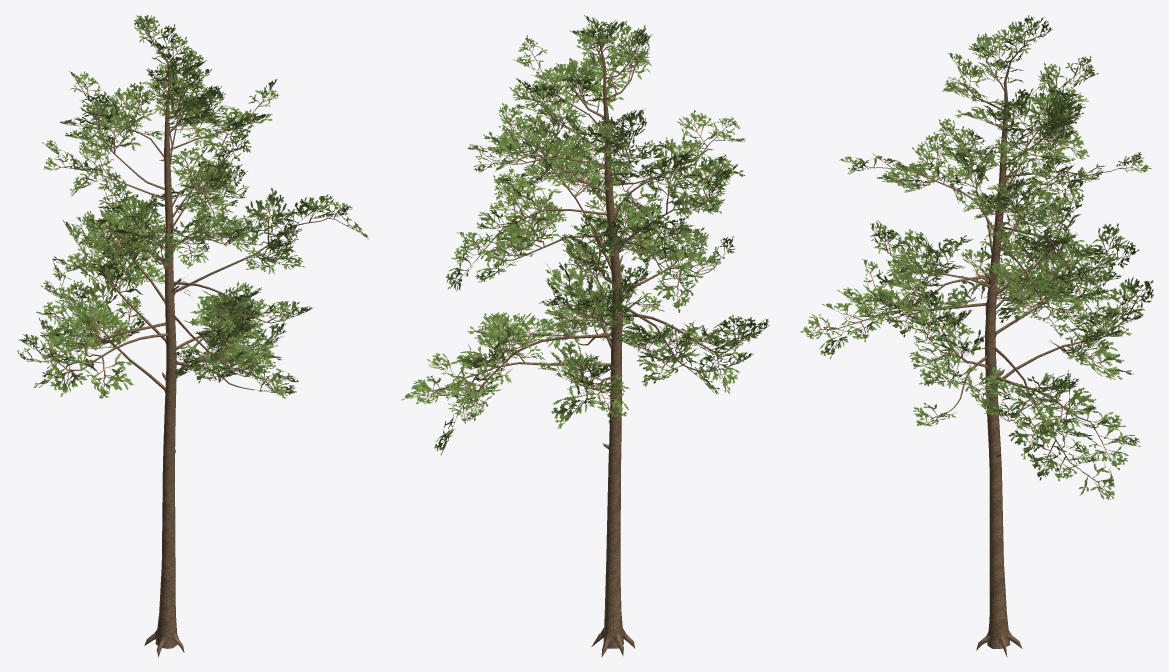
3 views of the same model, side by side, from view 1: azimuth 30°, elevation 25°; view 2: azimuth 150°, elevation 25°; view 3: azimuth 270°, elevation 25° (orthographic). The views are drawn at different scales.
Visible parts, largest first — view 1: Pine_large_2_LOD1_Bark_Mat_0; view 2: Pine_large_2_LOD1_Bark_Mat_0; view 3: Pine_large_2_LOD1_Bark_Mat_0.
Boxes of the visible parts, bbox=[...] form: Pine_large_2_LOD1_Bark_Mat_0: bbox=[17, 15, 369, 657]; Pine_large_2_LOD1_Bark_Mat_0: bbox=[401, 15, 769, 657]; Pine_large_2_LOD1_Bark_Mat_0: bbox=[800, 15, 1153, 657].
Size of the model in its own units: 16.41 by 31.59 by 16.11.
